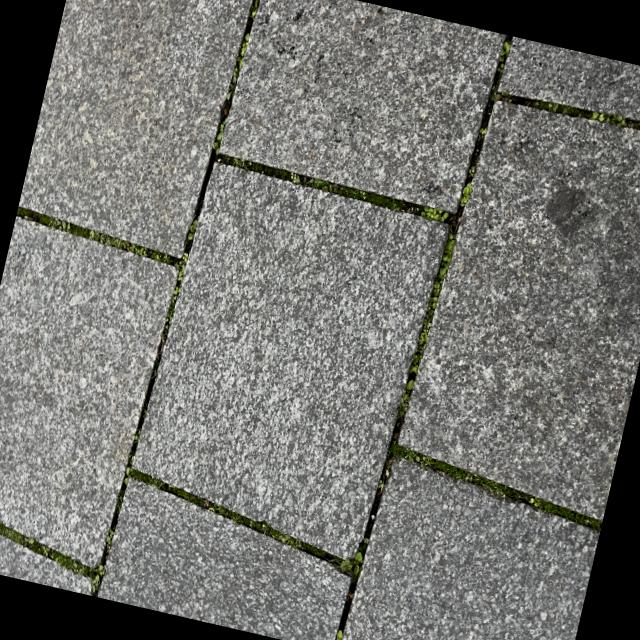pavement: (54, 185, 330, 540), (302, 4, 536, 261), (68, 0, 328, 197), (109, 545, 345, 640)
weedling: (314, 37, 633, 258)
